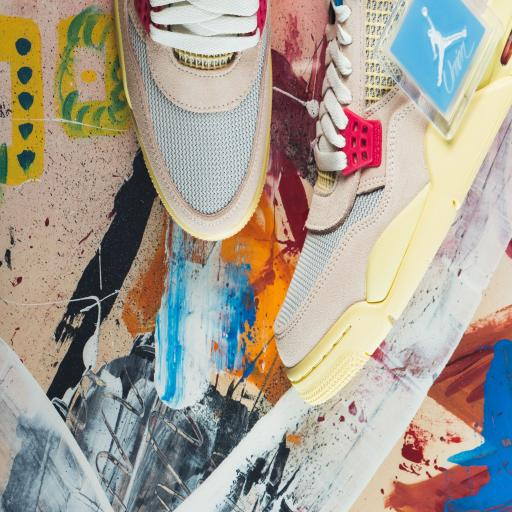shoe: (275, 0, 511, 403), (115, 0, 271, 239)
